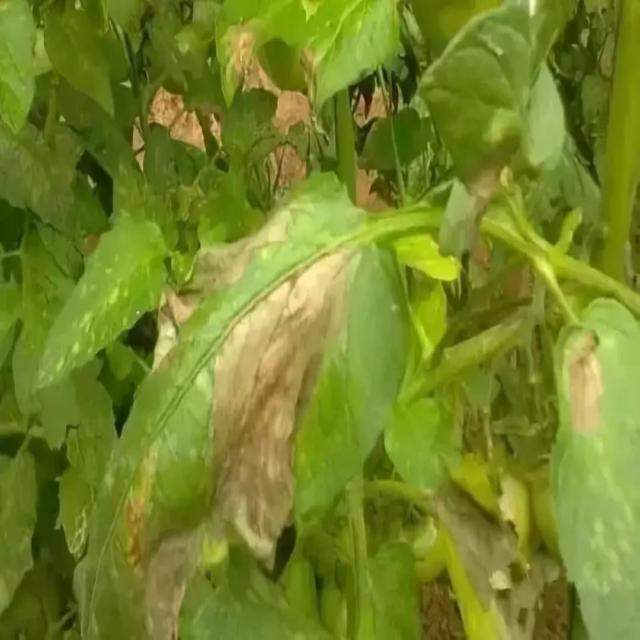Early_blight: (127, 197, 358, 640), (434, 476, 559, 640), (461, 127, 517, 289), (556, 321, 606, 436)
